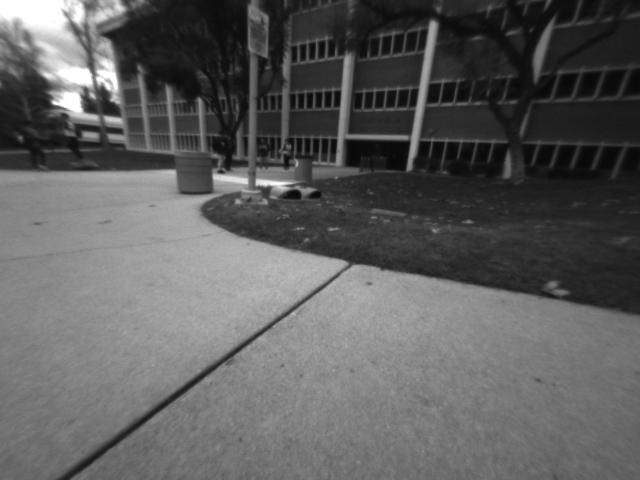trashcan: (168, 150, 214, 201), (288, 154, 310, 185)
